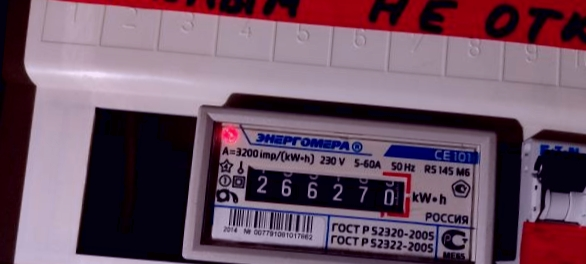0: (380, 187, 396, 208)
2: (254, 174, 269, 196), (331, 182, 345, 203)
6: (279, 177, 293, 199), (305, 180, 319, 200)
7: (357, 185, 368, 204)
screen: (232, 155, 419, 225)
